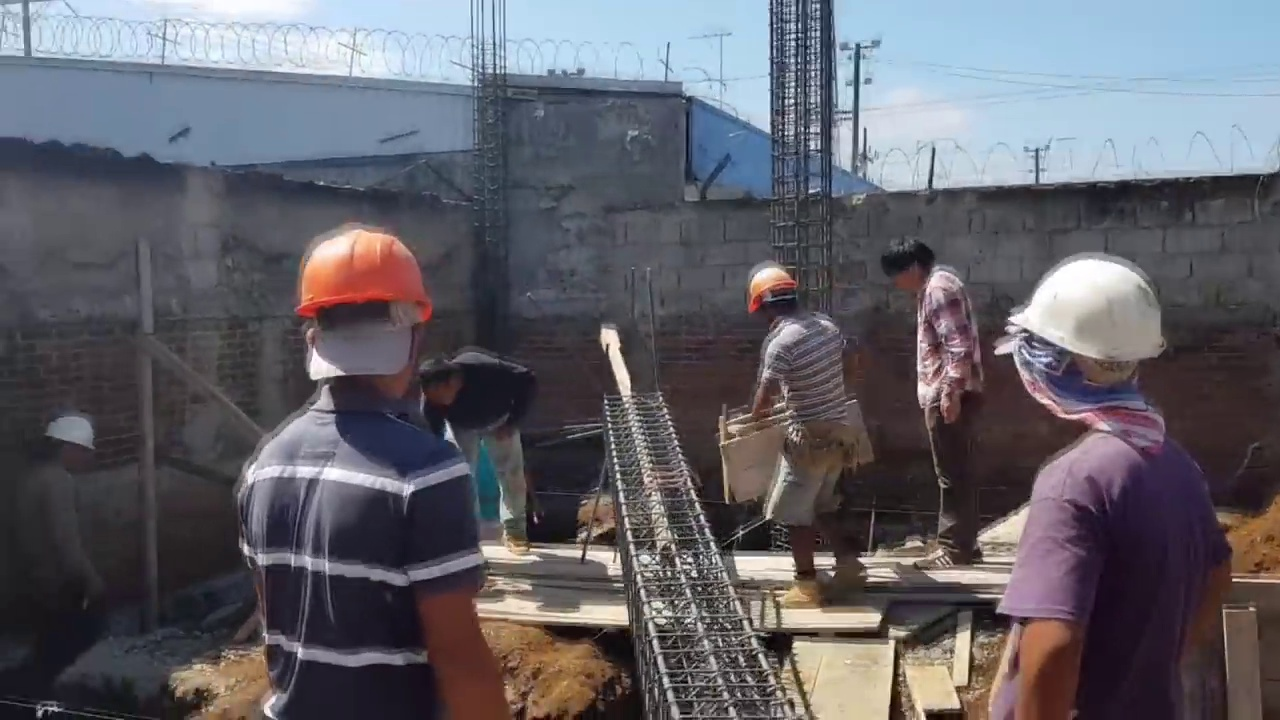helmet: (1011, 258, 1169, 371), (284, 226, 428, 339), (740, 263, 792, 317), (38, 412, 99, 454)
helmet-off: (882, 241, 937, 299), (418, 352, 464, 418)
helmet-on: (278, 222, 435, 428), (1013, 257, 1171, 442), (740, 257, 804, 329), (36, 416, 92, 476)
person: (228, 215, 500, 715), (987, 259, 1234, 720), (737, 255, 857, 618), (882, 240, 986, 575), (417, 347, 543, 534), (25, 413, 111, 654)
